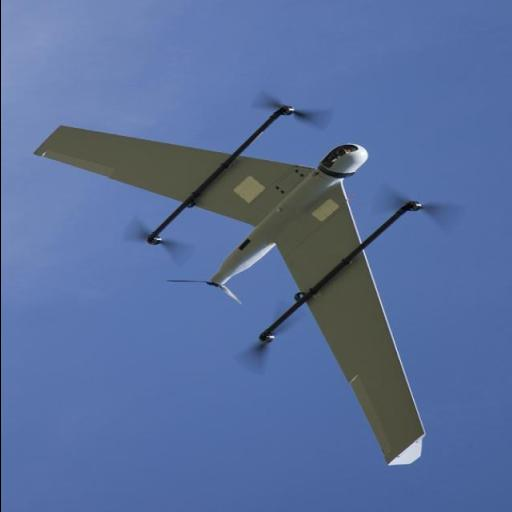uav: (22, 115, 460, 477)
